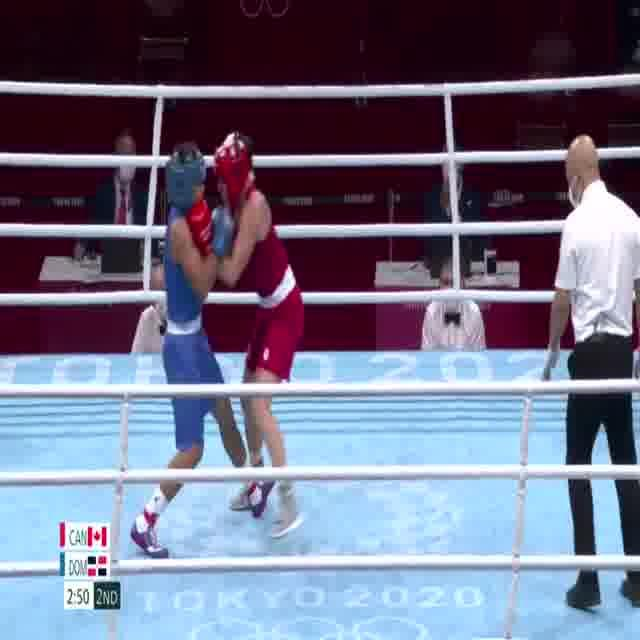blue-player: (128, 143, 276, 561)
red-player: (186, 128, 305, 539)
referee: (538, 131, 640, 611)
